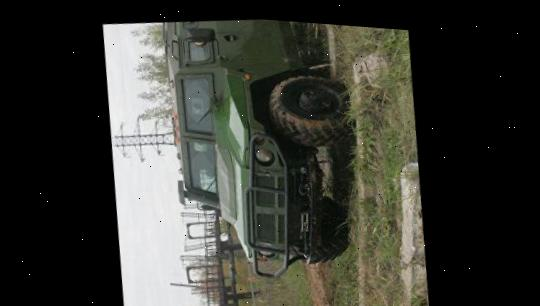armored_car: (142, 11, 371, 290)
